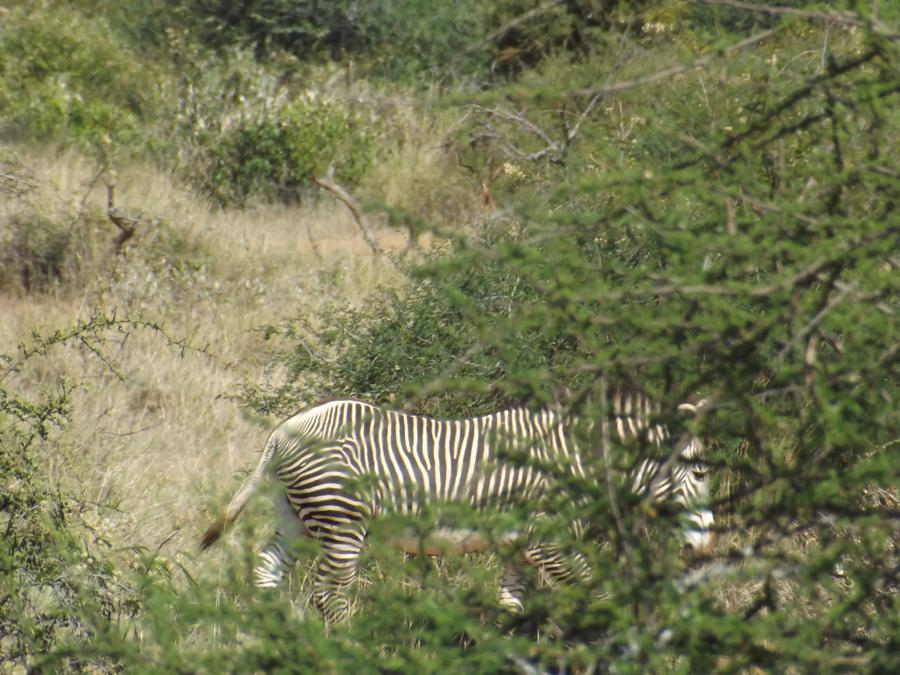zebra_grevys: (258, 377, 578, 548)
